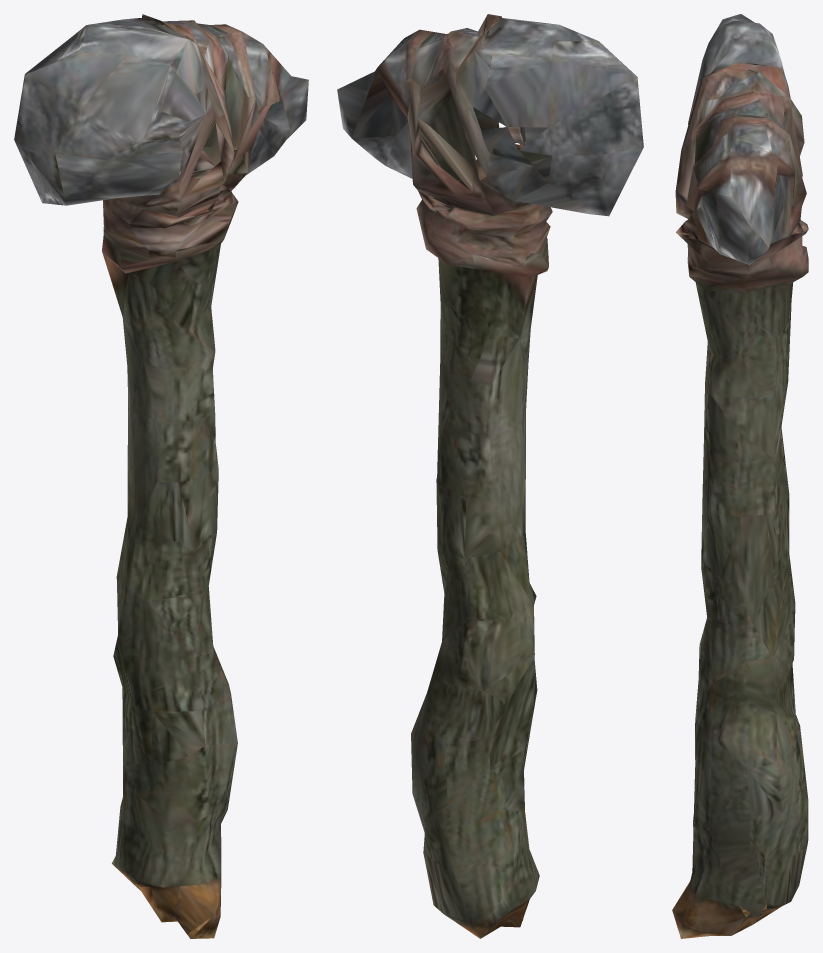
The model's file is steinaxt.glb.
The picture shows the model from 3 angles, left to right: view 1: azimuth 30°, elevation 25°; view 2: azimuth 150°, elevation 25°; view 3: azimuth 270°, elevation 25°; orthographic projection. The views are drawn at different scales.
Bounding box in the file's own units: 0.7379 × 2.15 × 0.3039.
Materials: 1 (1 with a texture image).
